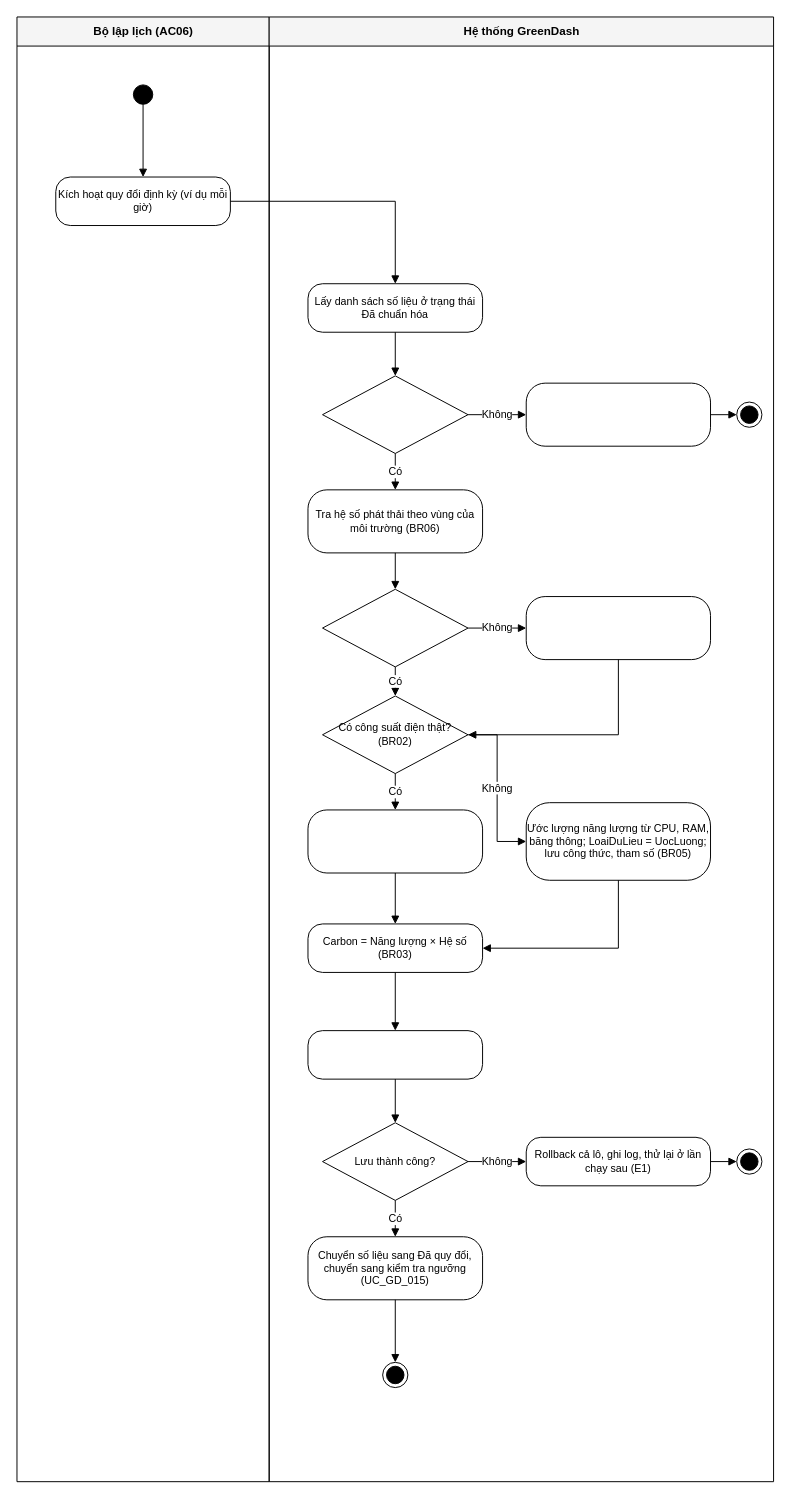
This 791x1499 diagram has some shape labels left out. The centre of each missing label's shape, as x and y in pixels:
"Bỏ qua, ghi log Thiếu hệ số vùng, giữ trạng thái (A1, BR07)" goes at (618,414).
"Có hệ số cho vùng?" goes at (395,627).
"Dùng hệ số mặc định quốc gia, hạ DoTinCay xuống Thấp; không có thì như A1 (A2)" goes at (618,628).
"Môi trường đã gắn trung tâm dữ liệu?" goes at (395,414).
"Năng lượng = công suất × thời gian; LoaiDuLieu = Do" goes at (395,841).
"Xác định DoTinCay (BR08), lưu KetQuaCarbon" goes at (395,1054).
